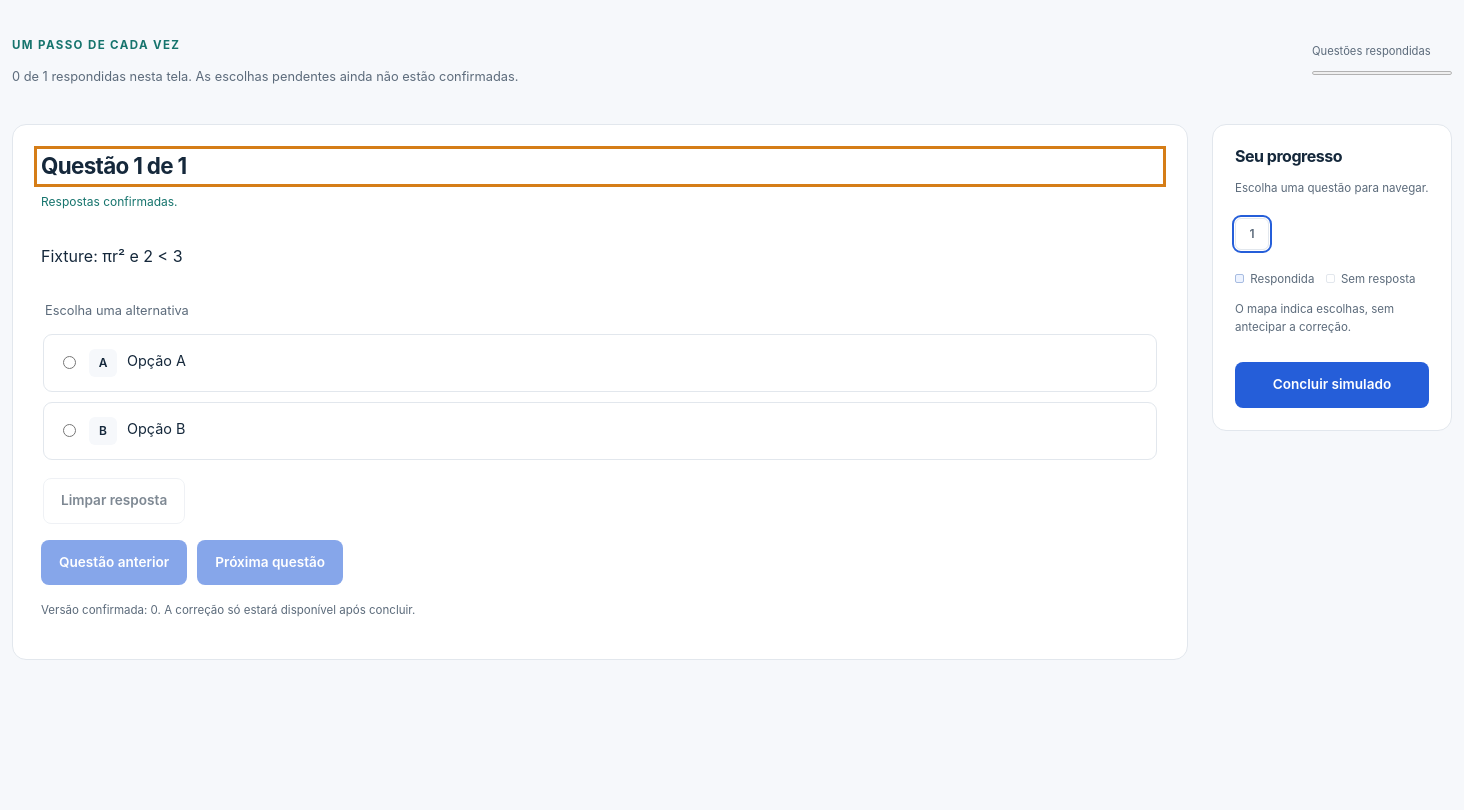
Scenario: conflito recarrega versão atual e preserva escolha sem reenviar até ação explícita
Click the radio button labelled "A Opção A".
click(70, 363)  # box 63,356 -> 76,369
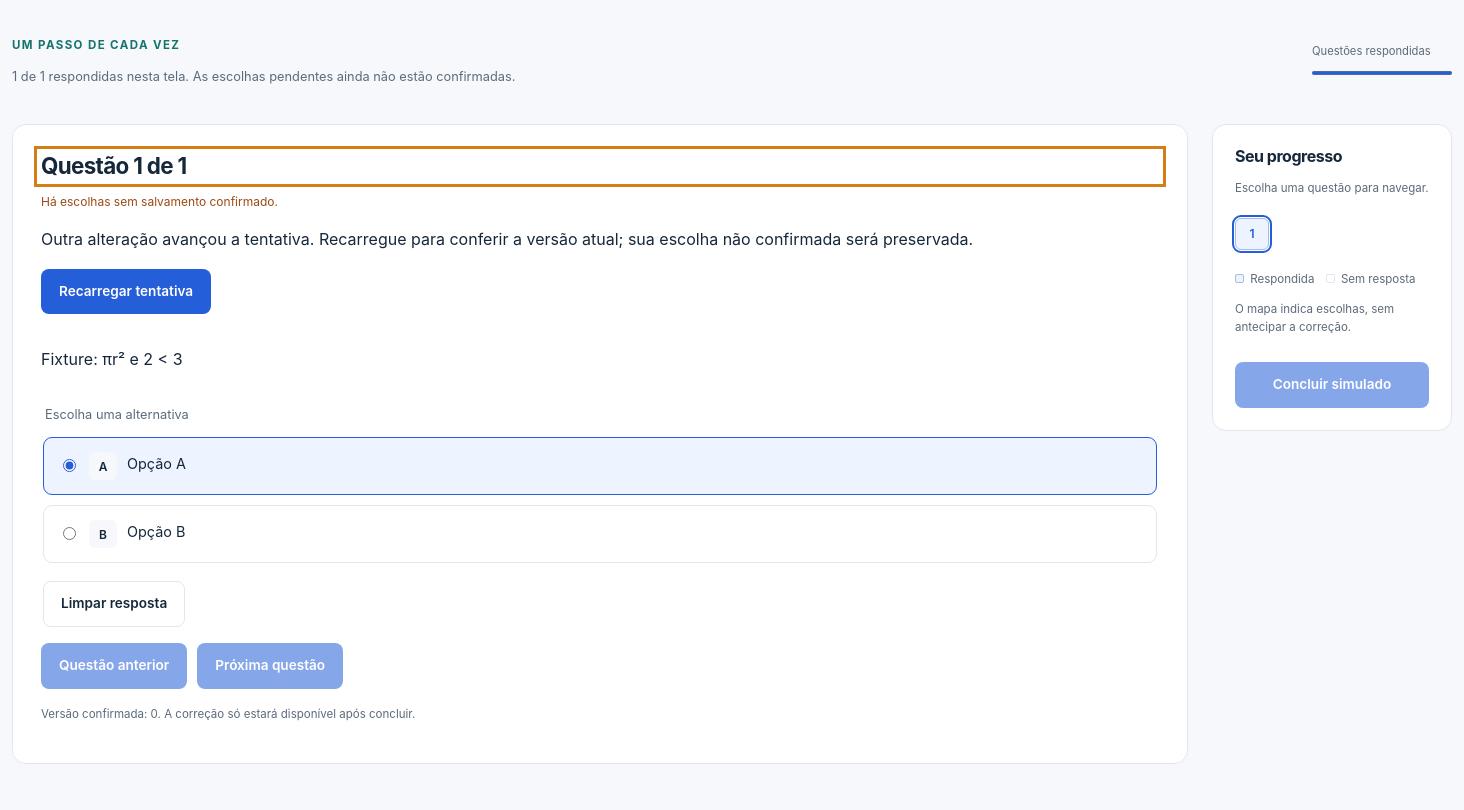
Click the button "Recarregar tentativa".
click(126, 292)  # box 41,269 -> 211,314
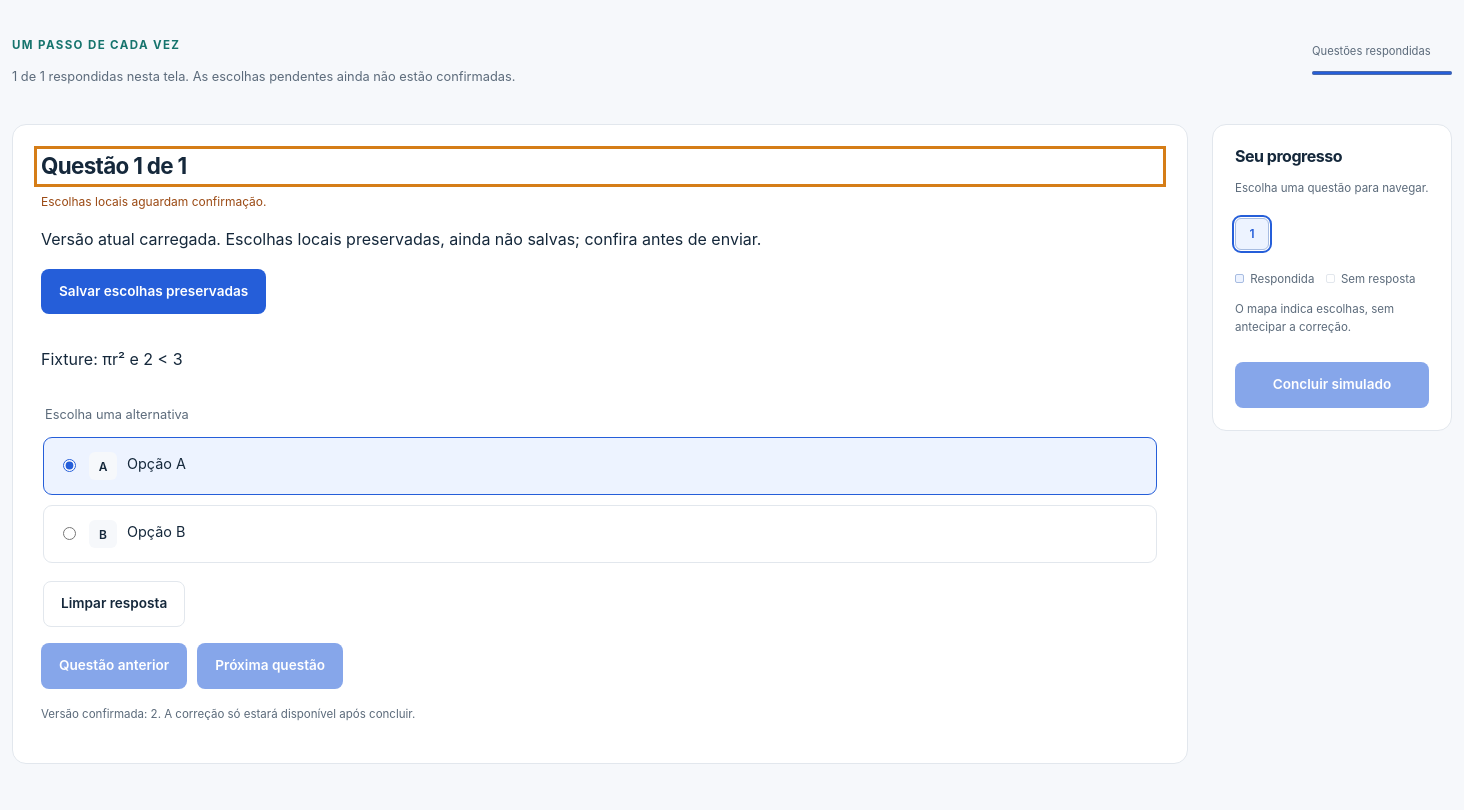
Now the radio button labelled "A Opção A" is checked, box 63,460 -> 76,472
Now the text "Escolhas locais preservadas" is shown, box 41,229 -> 761,249
Click the button "Salvar escolhas preservadas".
click(154, 292)  # box 41,269 -> 266,314
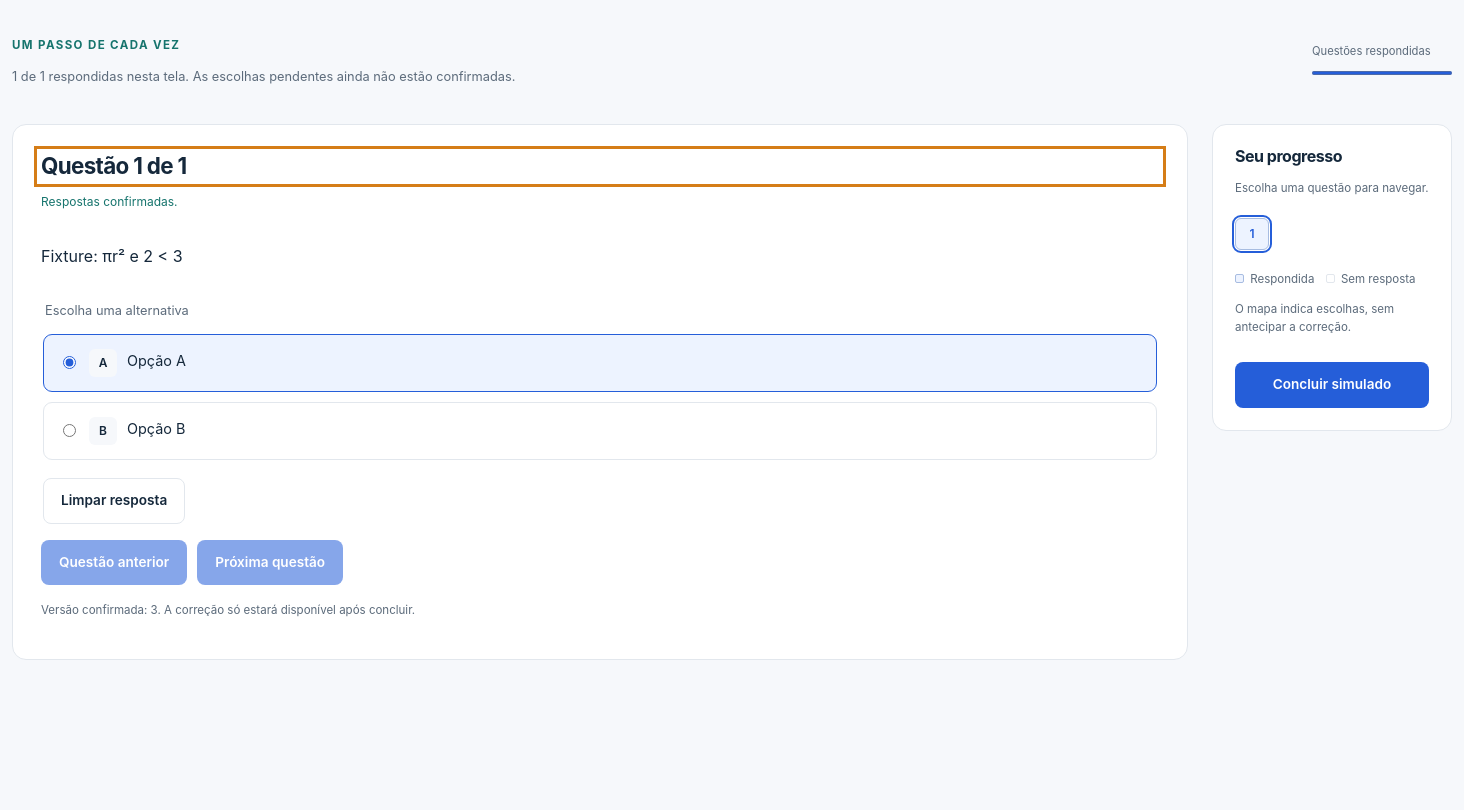
Now the text "Respostas confirmadas." is shown, box 41,194 -> 178,209
